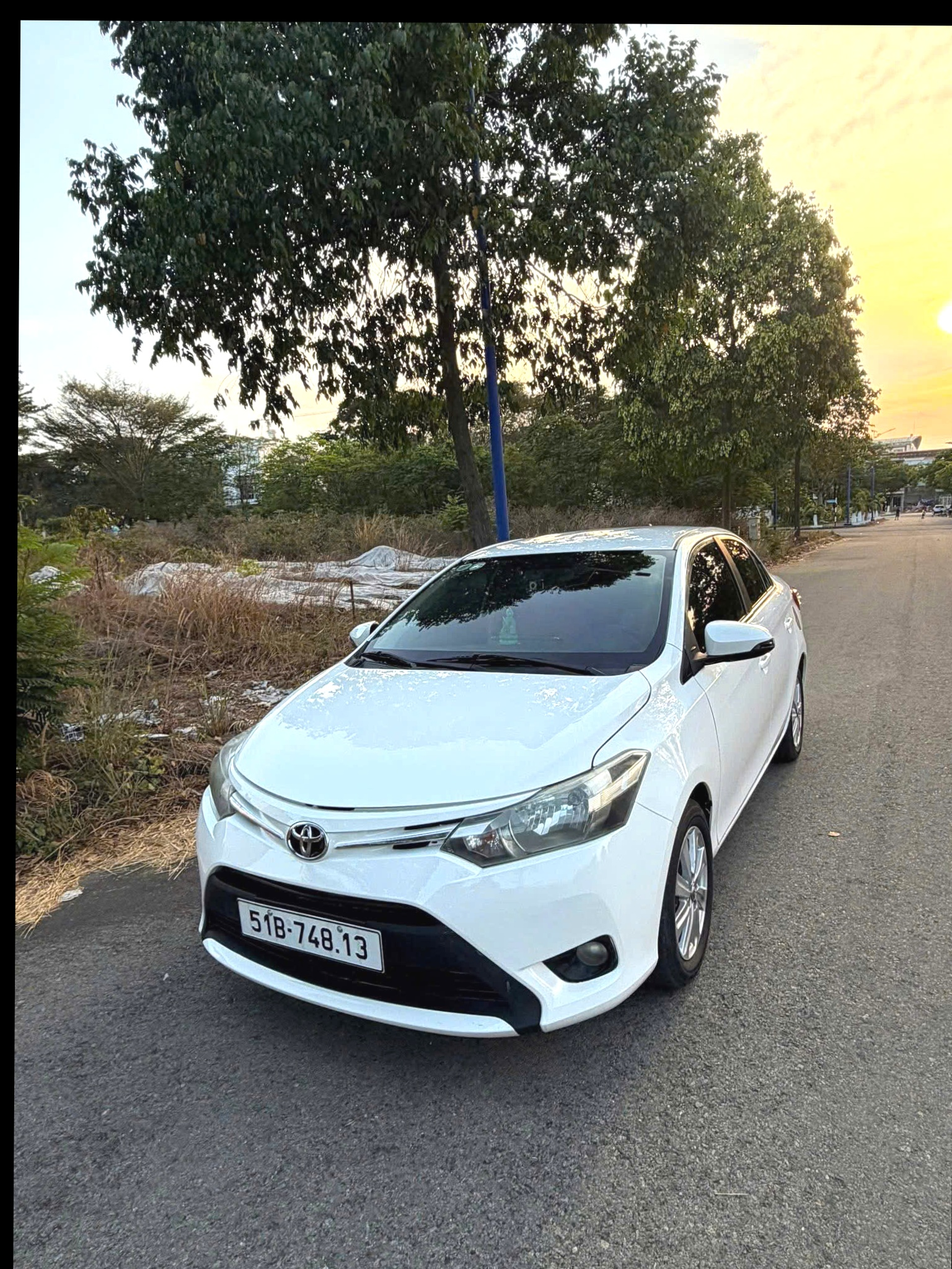Bien-so: (226, 889, 371, 955)
